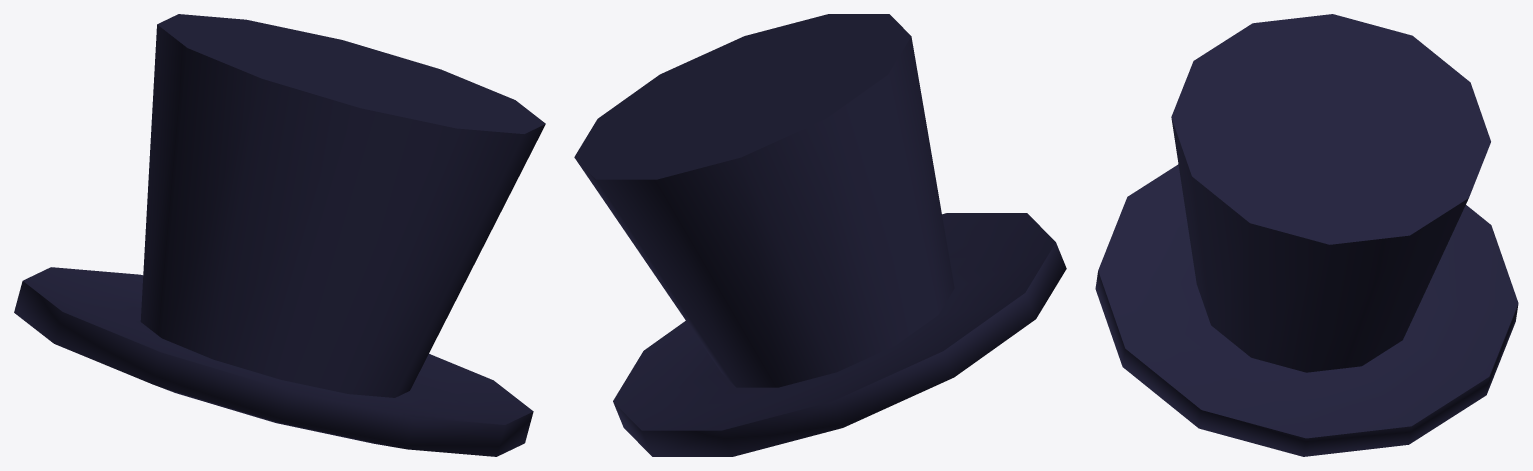
File: LittleGhost_MiniHat.fbx
3 views of the same model, side by side, from view 1: azimuth 30°, elevation 25°; view 2: azimuth 150°, elevation 25°; view 3: azimuth 270°, elevation 25° (orthographic). The views are drawn at different scales.
Visible parts, largest first — view 1: Kid_ghost_v1:MiniHat; view 2: Kid_ghost_v1:MiniHat; view 3: Kid_ghost_v1:MiniHat.
Boxes of the visible parts, <box> form: Kid_ghost_v1:MiniHat: <box>14,14,545,456</box>; Kid_ghost_v1:MiniHat: <box>574,14,1066,456</box>; Kid_ghost_v1:MiniHat: <box>1095,14,1518,456</box>.
Size of the model in its own units: 0.3378 by 0.2848 by 0.3263.
